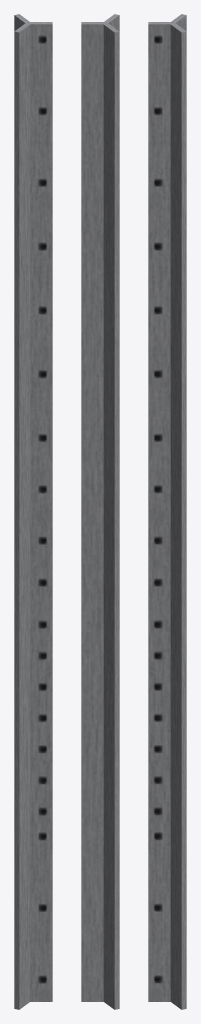
Rendered from fence-tall-mesh-picket-cbj_LOD00.gltf.
3 views of the same model, side by side, from view 1: azimuth 90°, elevation 25°; view 2: azimuth 150°, elevation 25°; view 3: azimuth 270°, elevation 25° (orthographic).
Visible parts, largest first — view 1: Cube; view 2: Cube; view 3: Cube.
Boxes of the visible parts, box(x1,y1,x2,y2) form: Cube: box(14, 14, 52, 1009); Cube: box(81, 14, 119, 1009); Cube: box(148, 14, 186, 1009).
Bounding box in the file's own units: 0.0951 × 2.33 × 0.0824.
